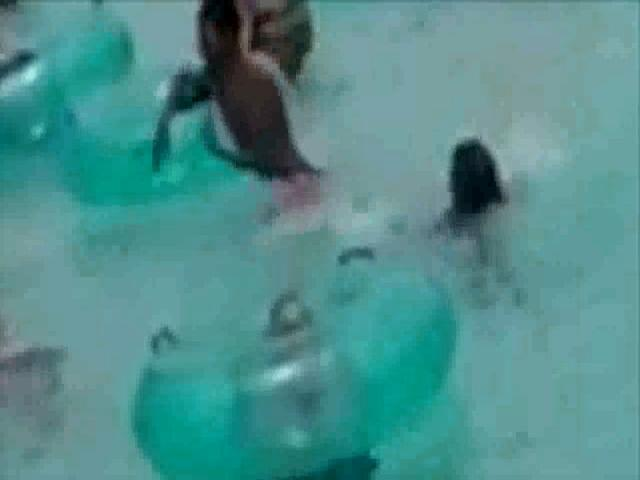drowning: (367, 114, 581, 250)
swimming: (145, 0, 320, 207)
